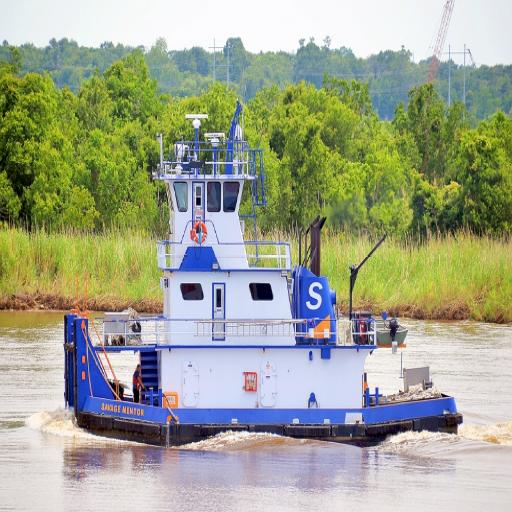tugboat: (63, 98, 468, 463)
